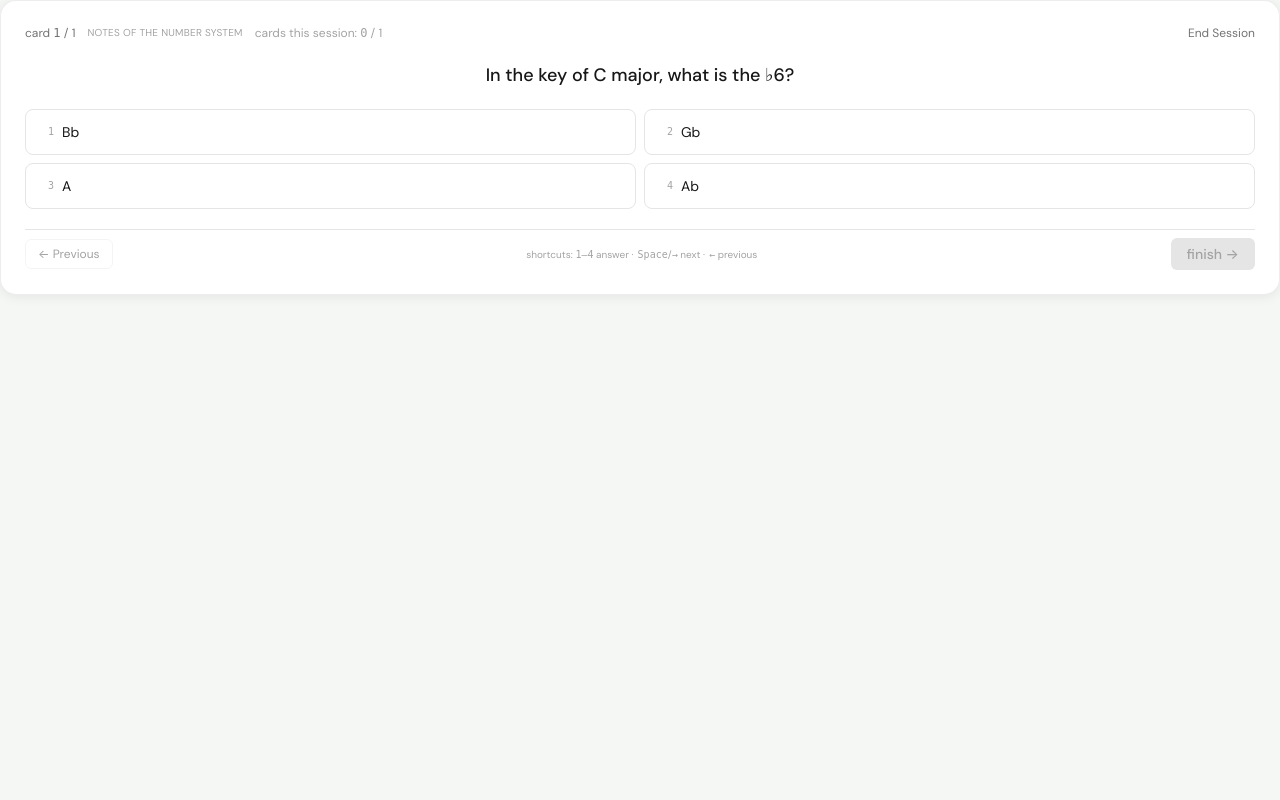
Test: the reveal › shows the same board for a right answer and a wrong one
Click the button "3 A". click: (51, 186)
box: [25,163,636,209]
(page scrolled)
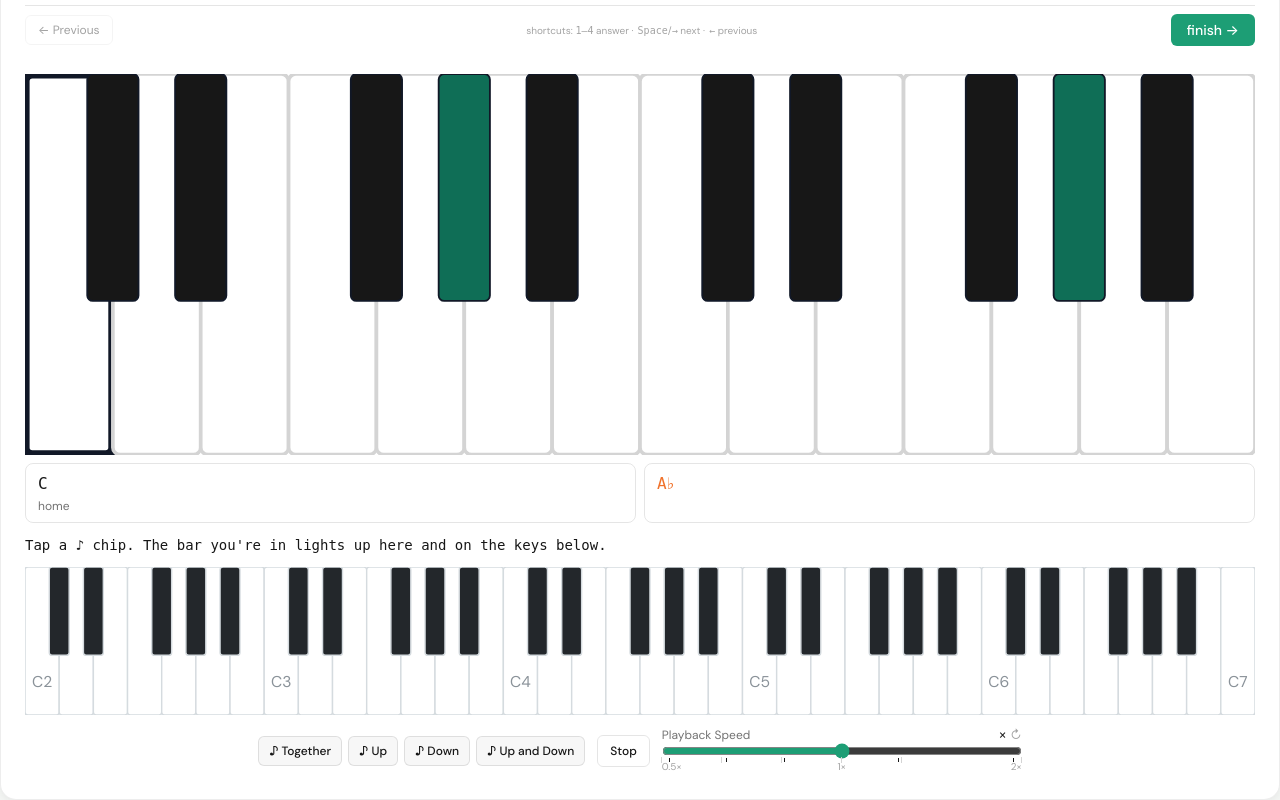
Expected: the element with test id "degree-note-reveal" is shown
